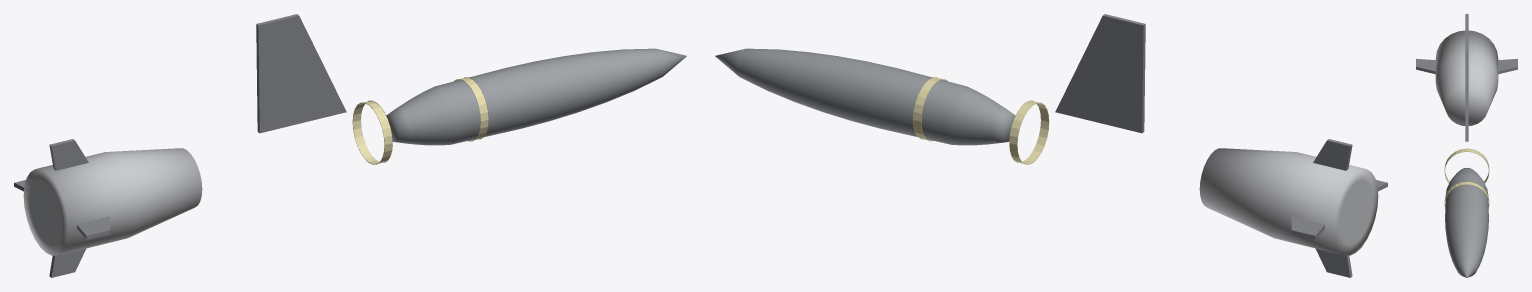
The model's file is RU_ASM_P6_LOD1.fbx.
3 renders of one model, left to right at view 1: azimuth 30°, elevation 25°; view 2: azimuth 150°, elevation 25°; view 3: azimuth 270°, elevation 25°, orthographic. The views are drawn at different scales.
Parts seen in each view (by area): view 1: WPN_RU_ASM_P6_LOD1_Body, WPN_RU_ASM_P6_LOD1_Tail, WPN_RU_ASM_P6_LOD1_Wings, WPN_RU_ASM_P6_LOD1_Fins, WPN_RU_ASM_P6_LOD1_Marking; view 2: WPN_RU_ASM_P6_LOD1_Body, WPN_RU_ASM_P6_LOD1_Tail, WPN_RU_ASM_P6_LOD1_Wings, WPN_RU_ASM_P6_LOD1_Fins, WPN_RU_ASM_P6_LOD1_Marking; view 3: WPN_RU_ASM_P6_LOD1_Tail, WPN_RU_ASM_P6_LOD1_Body, WPN_RU_ASM_P6_LOD1_Fins, WPN_RU_ASM_P6_LOD1_Marking, WPN_RU_ASM_P6_LOD1_Wings.
Boxes of the visible parts, x1,y1,x2,y2 form: WPN_RU_ASM_P6_LOD1_Body: (386,48,686,145); WPN_RU_ASM_P6_LOD1_Tail: (23,148,202,255); WPN_RU_ASM_P6_LOD1_Wings: (256,14,346,133); WPN_RU_ASM_P6_LOD1_Fins: (14,139,110,277); WPN_RU_ASM_P6_LOD1_Marking: (352,77,488,164); WPN_RU_ASM_P6_LOD1_Body: (715,48,1015,145); WPN_RU_ASM_P6_LOD1_Tail: (1199,148,1378,255); WPN_RU_ASM_P6_LOD1_Wings: (1055,14,1145,133); WPN_RU_ASM_P6_LOD1_Fins: (1291,139,1387,277); WPN_RU_ASM_P6_LOD1_Marking: (913,77,1049,164); WPN_RU_ASM_P6_LOD1_Tail: (1435,30,1498,125); WPN_RU_ASM_P6_LOD1_Body: (1445,168,1488,277); WPN_RU_ASM_P6_LOD1_Fins: (1416,14,1517,74); WPN_RU_ASM_P6_LOD1_Marking: (1444,148,1489,208); WPN_RU_ASM_P6_LOD1_Wings: (1465,35,1468,141).
Size of the model in its own units: 10.6 by 2.08 by 3.19.
